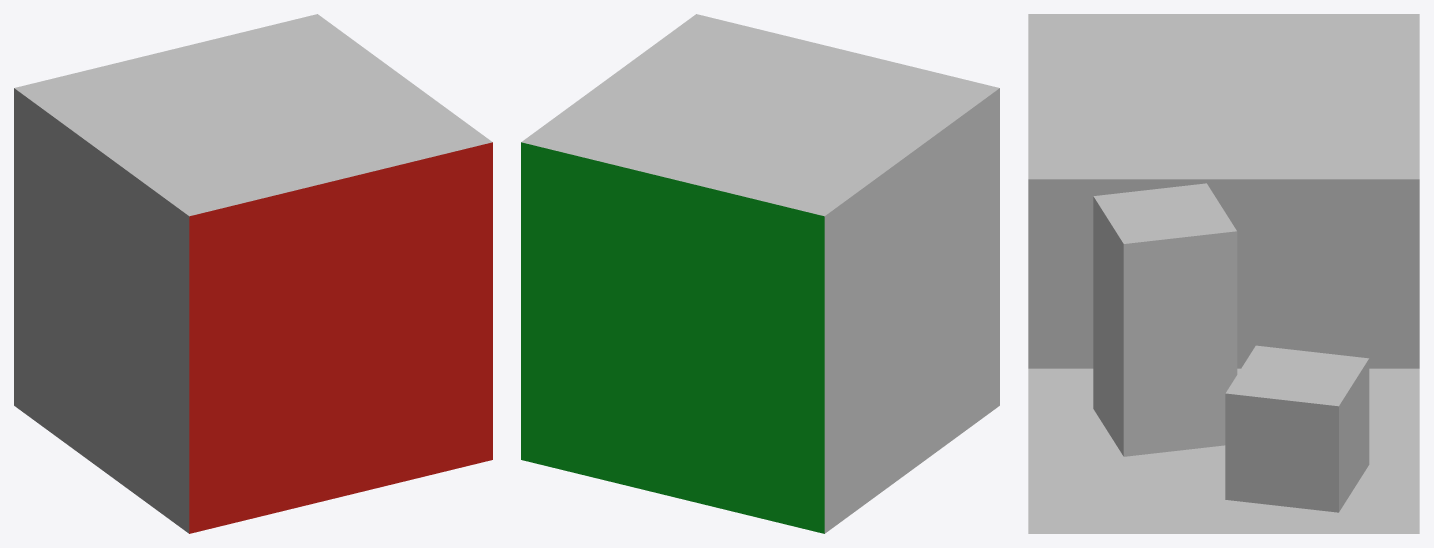
File: cornell-box.obj
3 views of the same model, side by side, from view 1: azimuth 30°, elevation 25°; view 2: azimuth 150°, elevation 25°; view 3: azimuth 270°, elevation 25° (orthographic). The views are drawn at different scales.
Parts seen in each view (by area): view 1: base; view 2: base; view 3: base, cube.002, cube.001.
Part boxes in pixels (<box>): base: <box>14,14,492,533</box>; base: <box>521,14,999,533</box>; base: <box>1028,14,1419,533</box>; cube.002: <box>1093,183,1237,456</box>; cube.001: <box>1225,345,1369,512</box>.
Bounding box in the file's own units: 4 × 4 × 4.
